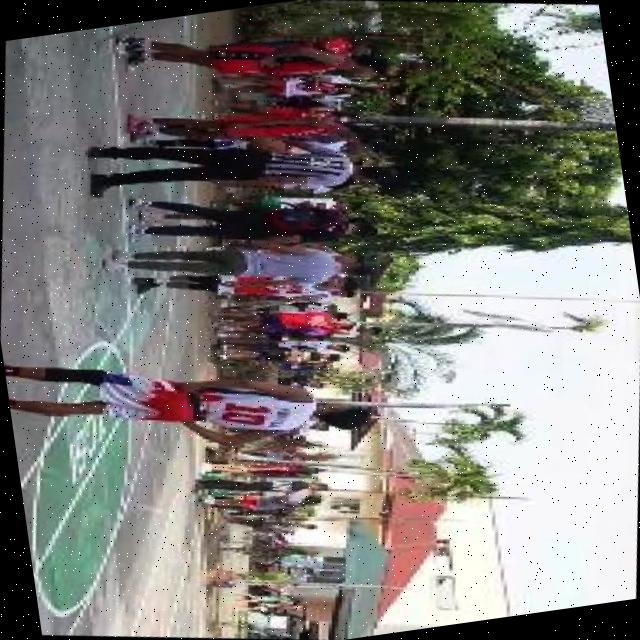ball: (243, 131, 287, 159)
